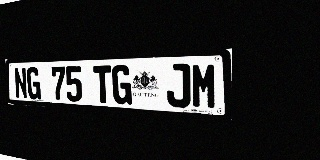5: (65, 66, 83, 102)
7: (50, 66, 66, 101)
G: (112, 65, 132, 105), (26, 67, 41, 100)
J: (166, 63, 191, 108)
M: (191, 63, 218, 110)
N: (14, 67, 28, 99)
T: (93, 65, 112, 104)
